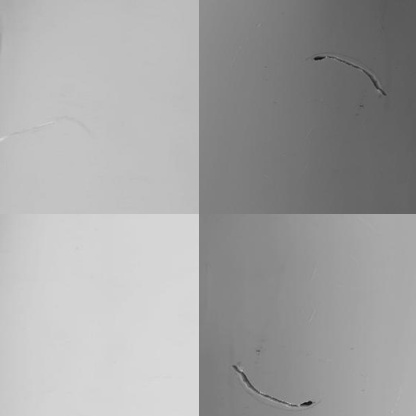fengxi: (228, 358, 315, 409), (308, 48, 391, 101)
